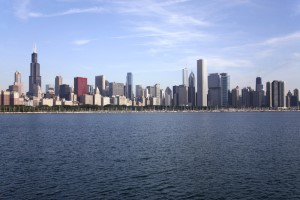willis: (26, 40, 43, 89)
